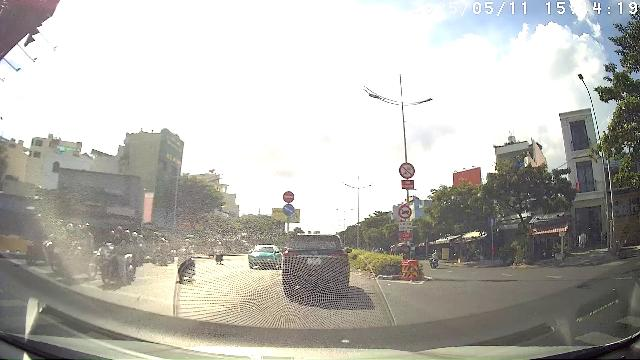102-cam-di-nguoc-chieu: (283, 191, 295, 203)
106-cam-oto-tai: (398, 205, 412, 219)
302a-huong-phai-di-vong-chuong-ngai-vat-1: (283, 204, 295, 216)
